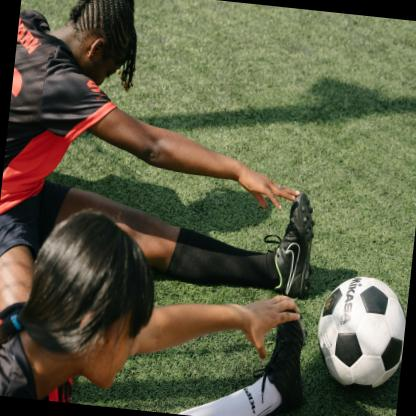ball: (310, 270, 410, 396)
